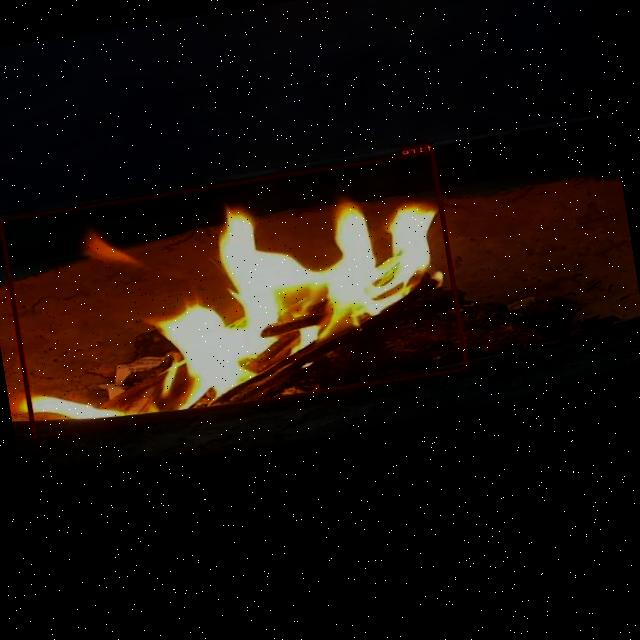fire: (0, 150, 469, 437)
